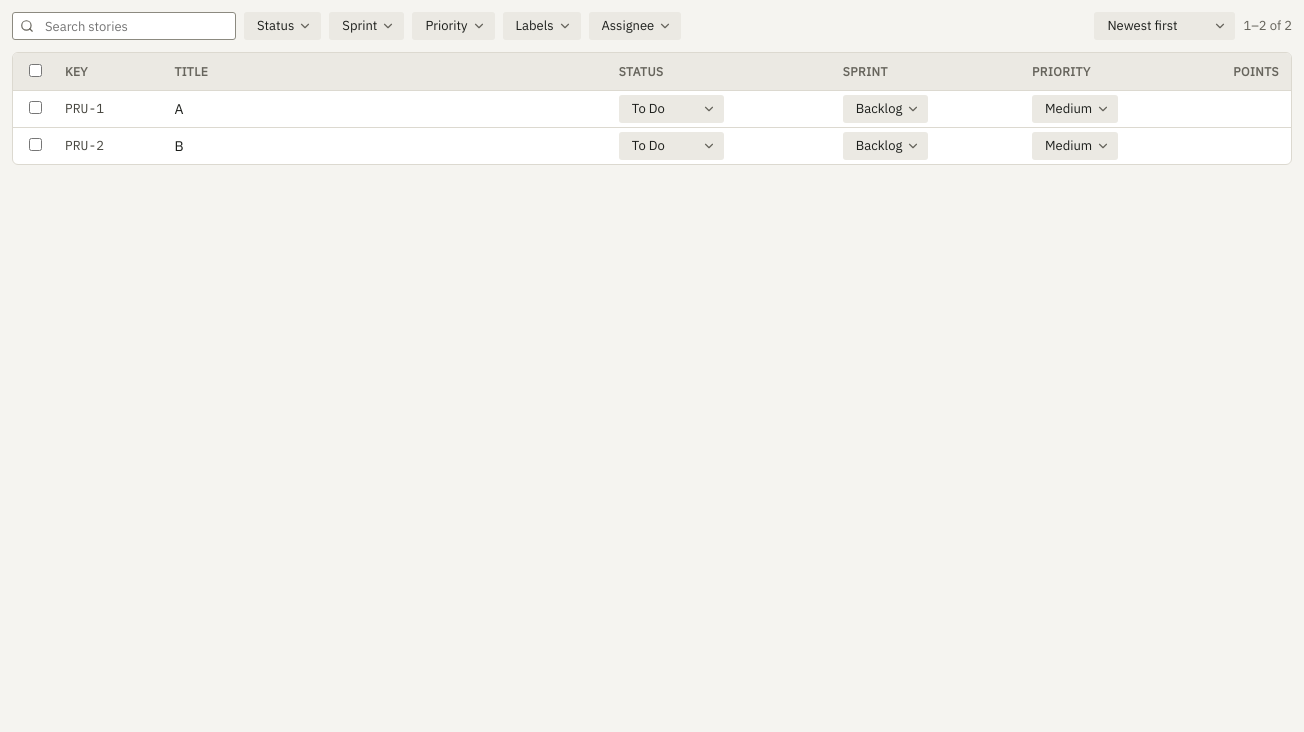
Test: BacklogView › bulk actions › moves every selected story and says how many
Click the checkbox named "Select all stories".
click(36, 70)  # box [29,64,42,77]
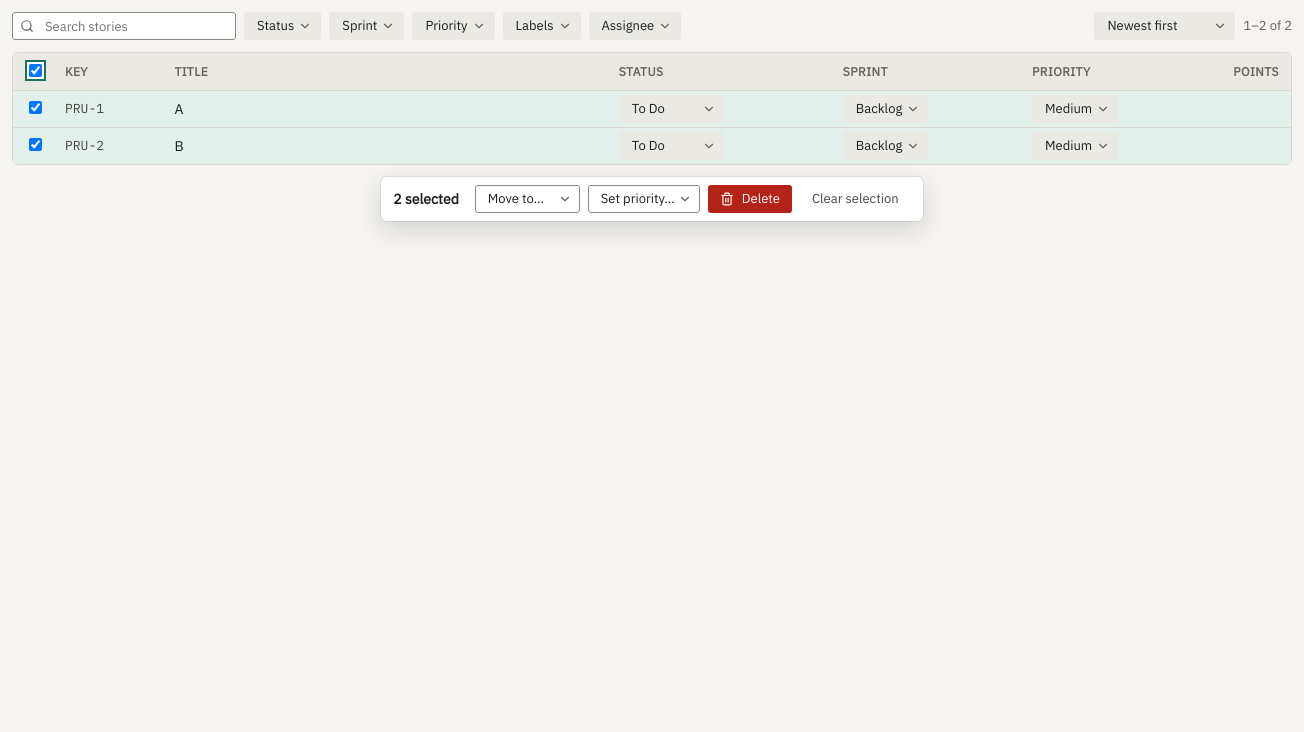
Expected: the element named "Bulk actions" shows "2 selected", [393,190,459,208]
Select "Done" in the dropdown named "Move to…" at coordinates (527, 199), box [475,185,580,213]
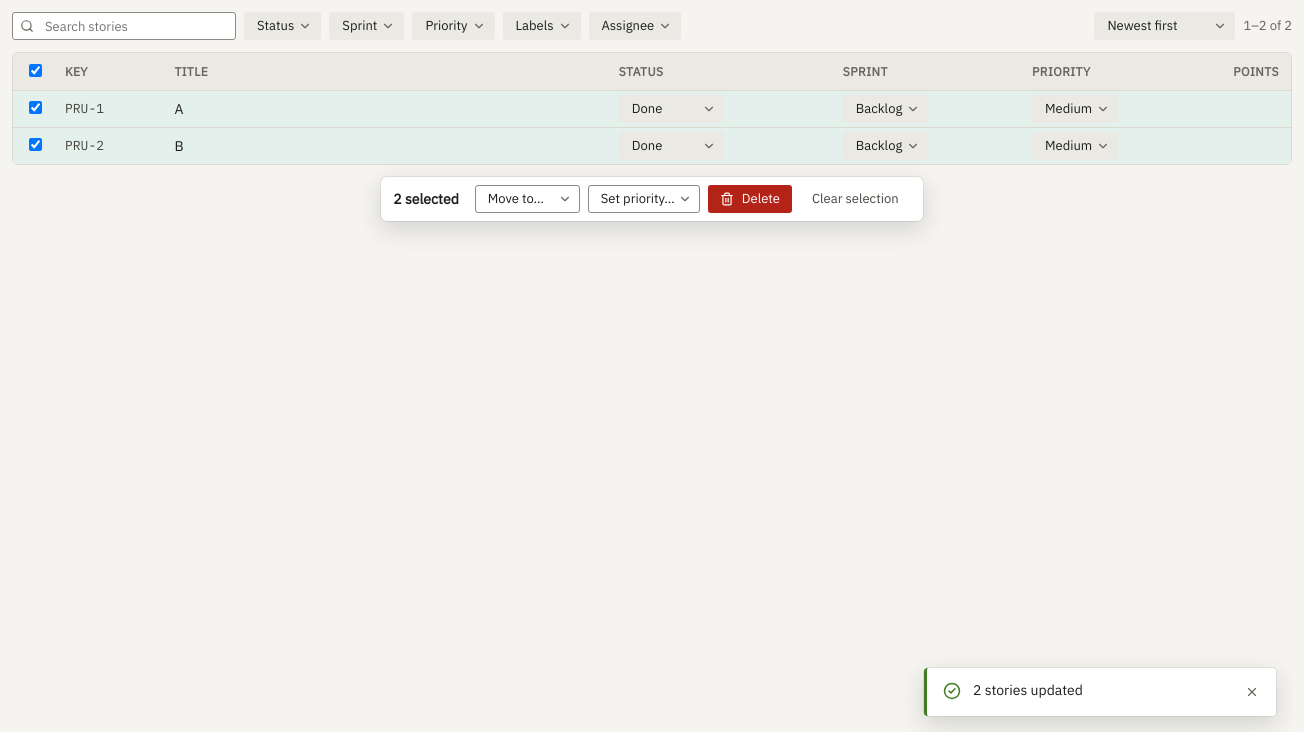
Expected: the text "2 stories updated" is shown, [973,681,1083,699]
Expected: the dropdown named "Status: PRU-1" shows "Done", [619,95,724,123]
